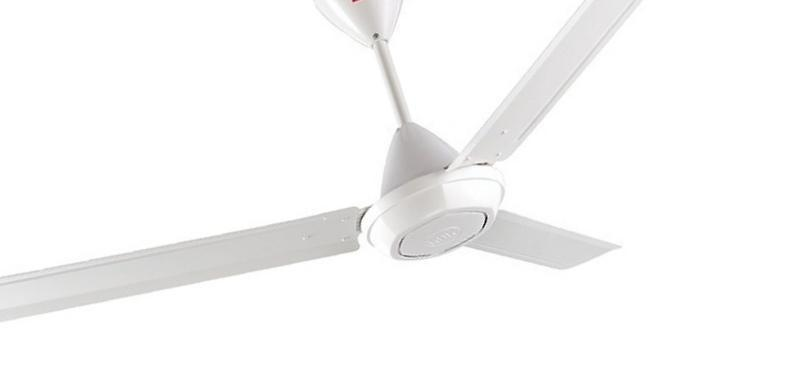fan: (0, 0, 650, 330)
